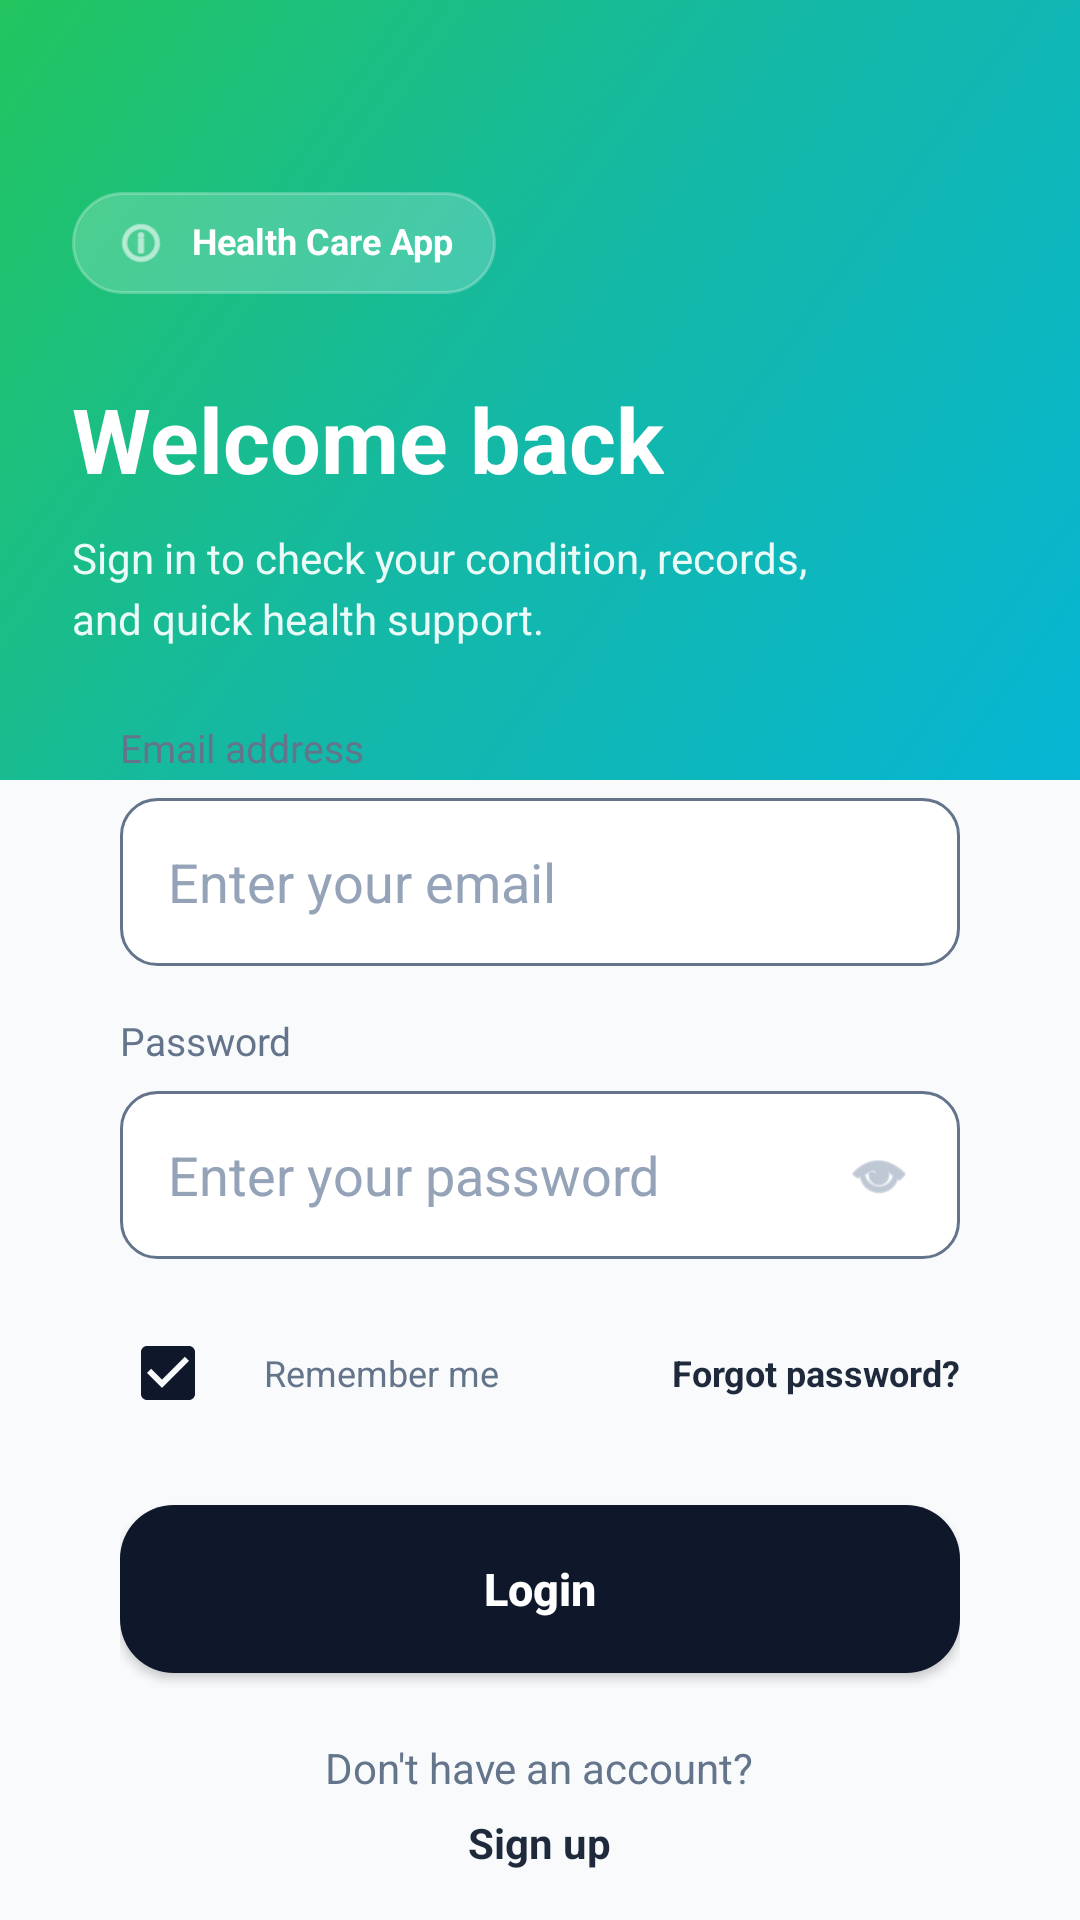

Icon click points for this 1080w x 1920h phone screenshot, format point (x, y):
info details: point (141, 243)
view: point (878, 1176)
